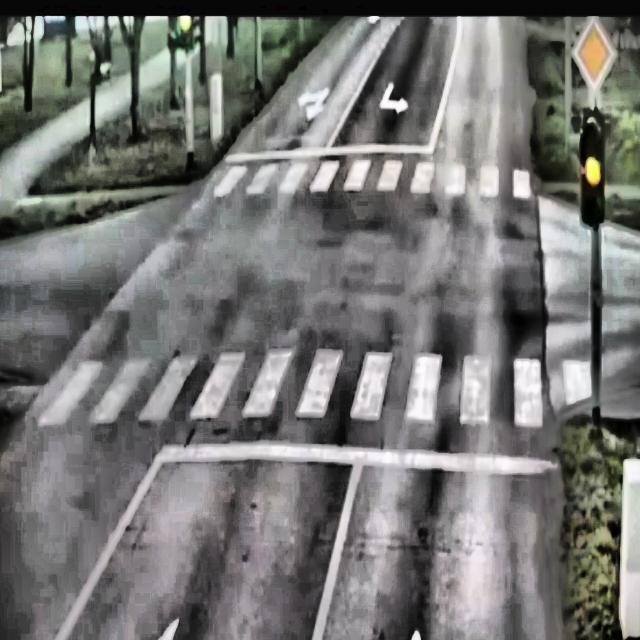yellow: (579, 109, 608, 230)
